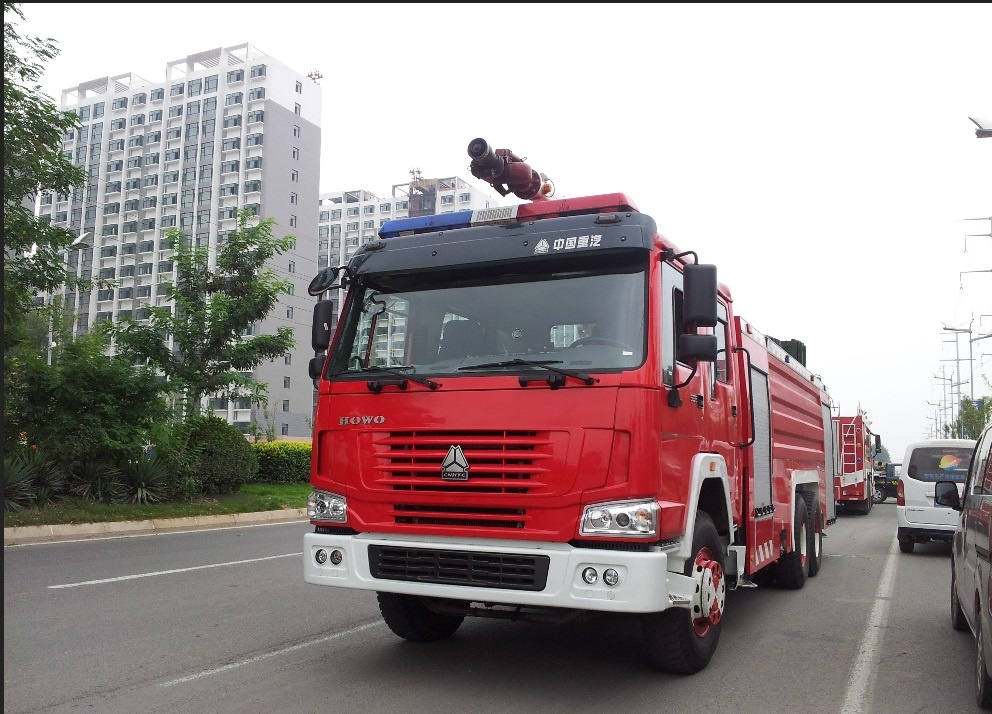fire engine: (303, 168, 842, 682)
